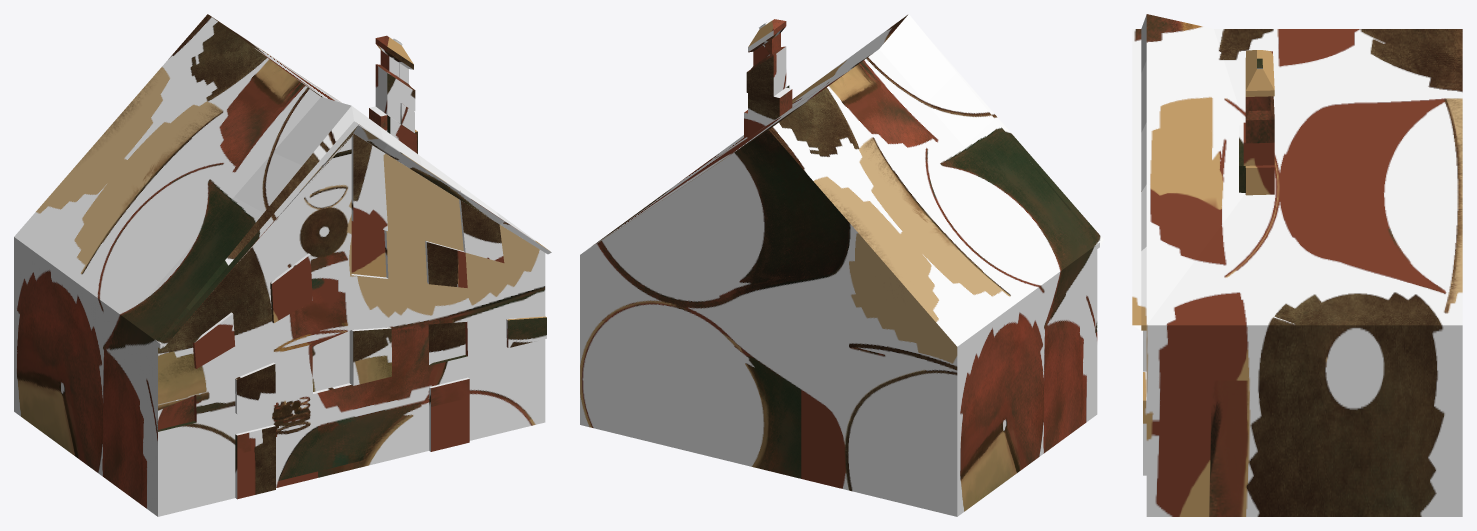
The model's file is Side_house.obj.
The picture shows the model from 3 angles, left to right: view 1: azimuth 30°, elevation 25°; view 2: azimuth 150°, elevation 25°; view 3: azimuth 270°, elevation 25°; orthographic projection. The views are drawn at different scales.
Parts seen in each view (by area): view 1: Side_gouse; view 2: Side_gouse; view 3: Side_gouse.
Part boxes in pixels (x1,y1,x2,y2): Side_gouse: (14,14,551,516); Side_gouse: (580,14,1103,516); Side_gouse: (1132,14,1462,516).
Bounding box in the file's own units: 23.46 × 21.65 × 15.79.
